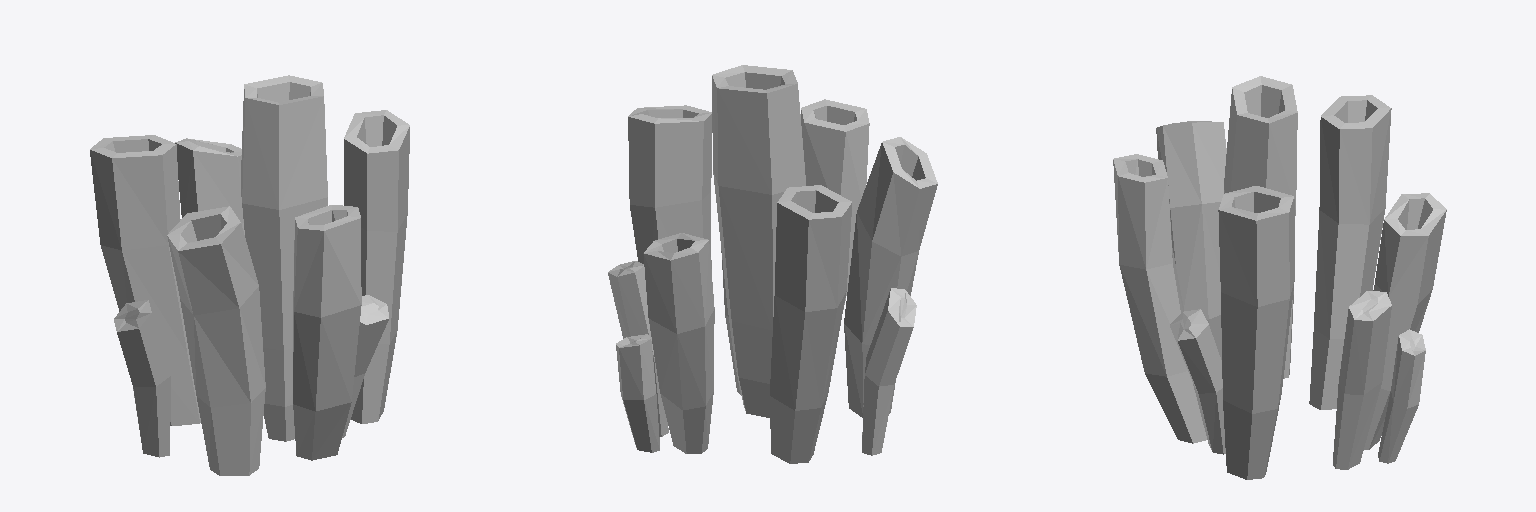
Rendered from Coral_D_03_LOD3.obj.
3 renders of one model, left to right at view 1: azimuth 30°, elevation 25°; view 2: azimuth 150°, elevation 25°; view 3: azimuth 270°, elevation 25°, orthographic.
Parts seen in each view (by area): view 1: Coral_D_03_LOD3_Cylinder.443; view 2: Coral_D_03_LOD3_Cylinder.443; view 3: Coral_D_03_LOD3_Cylinder.443.
Boxes of the visible parts, <box> form: Coral_D_03_LOD3_Cylinder.443: <box>90,75,409,475</box>; Coral_D_03_LOD3_Cylinder.443: <box>608,65,937,463</box>; Coral_D_03_LOD3_Cylinder.443: <box>1113,76,1446,479</box>.
Bounding box in the file's own units: 4.18 × 4.77 × 4.24.